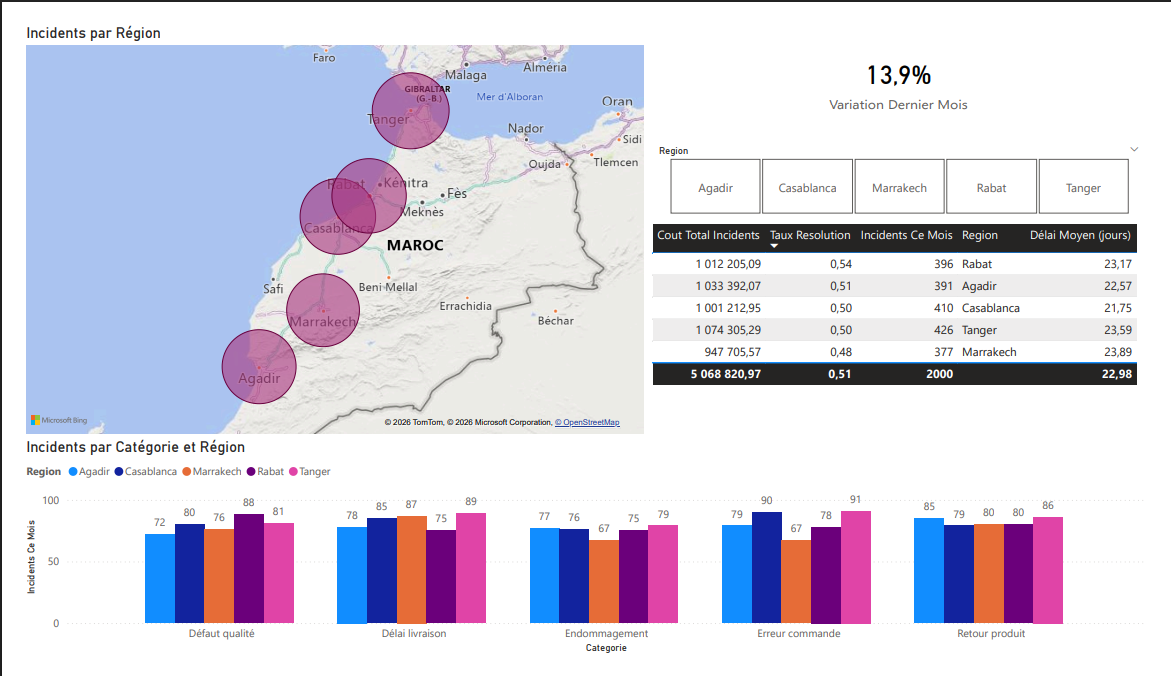

The dashboard page shown, as its layout file describes it:
{"tool":"powerbi","page":{"name":"Analyse Régions","canvas":[1280,720],"ordinal":1},"visuals":[{"type":"map","title":" Incidents par Région","fields":{"Size":["incidents_qualite.Incidents Ce Mois"],"Category":["incidents_qualite.Region"]},"box":[0,0,710,470],"z":0},{"type":"tableEx","fields":{"Values":["incidents_qualite.Cout Total Incidents","incidents_qualite.Taux Resolution","incidents_qualite.Incidents Ce Mois","incidents_qualite.Region","incidents_qualite.Délai Moyen (jours)"]},"box":[710,223.3,570,200],"z":1000},{"type":"clusteredColumnChart","title":"Incidents par Catégorie et Région","fields":{"Category":["incidents_qualite.Categorie","incidents_qualite.Severite"],"Y":["incidents_qualite.Incidents Ce Mois"],"Series":["incidents_qualite.Region"]},"box":[0,470,1280,250],"z":2000},{"type":"card","fields":{"Values":["incidents_qualite.Variation MoM2"]},"box":[710,0,570,133.3],"z":3000},{"type":"slicer","fields":{"Values":["incidents_qualite.Region"]},"box":[710,133.3,570,90],"z":3001}]}

Visuals, with their boxes in screenshot pixels (x1, y1, x2, y2), scaled from the page's 1280x720 canvas onto the 1171x676 screenshot:
" Incidents par Région" map: (0, 0, 650, 441)
tableEx - incidents_qualite.Cout Total Incidents x incidents_qualite.Taux Resolution: (650, 210, 1170, 397)
"Incidents par Catégorie et Région" clusteredColumnChart: (0, 441, 1170, 675)
card - incidents_qualite.Variation MoM2: (650, 0, 1170, 125)
slicer - incidents_qualite.Region: (650, 125, 1170, 210)
